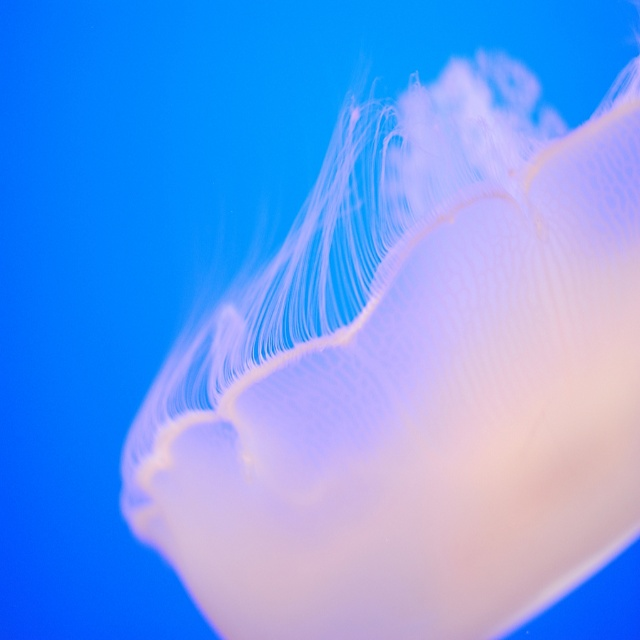Jellyfish: (115, 7, 639, 639)
